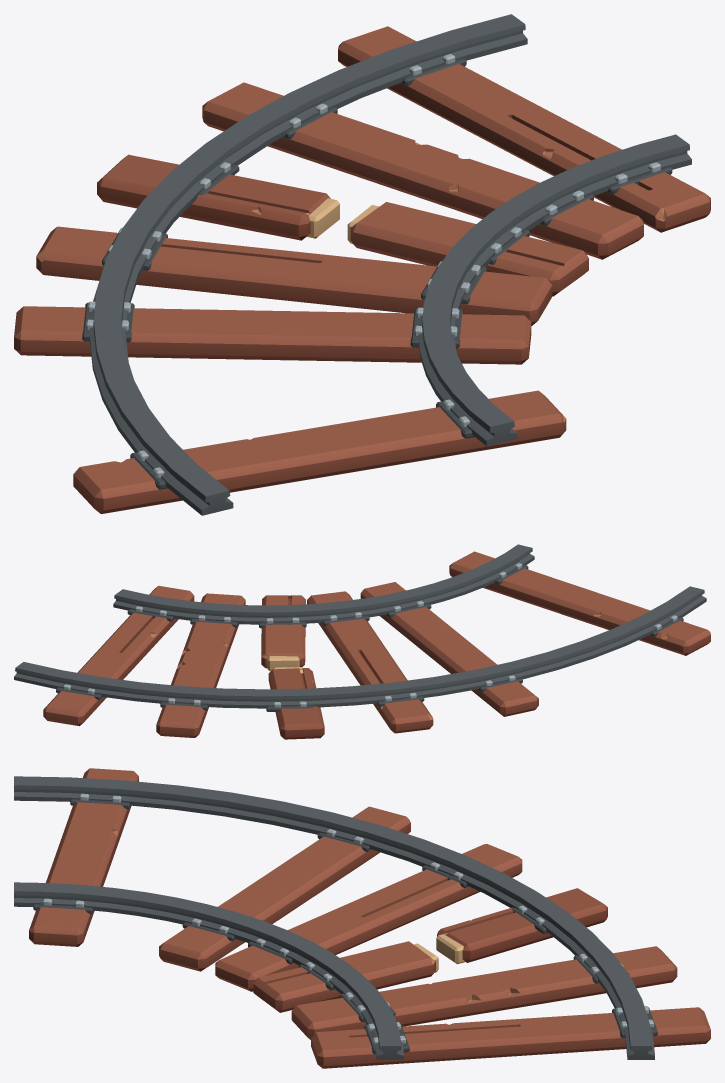
The model's file is rail_track_curve.glb.
The picture shows the model from 3 angles, top to bottom: view 1: azimuth 30°, elevation 25°; view 2: azimuth 150°, elevation 25°; view 3: azimuth 270°, elevation 25°; orthographic projection. The views are drawn at different scales.
Visible parts, largest first — view 1: rail_track_curve; view 2: rail_track_curve; view 3: rail_track_curve.
Boxes of the visible parts, bbox=[...] form: rail_track_curve: bbox=[14, 14, 710, 515]; rail_track_curve: bbox=[14, 544, 710, 739]; rail_track_curve: bbox=[14, 768, 710, 1068].
Bounding box in the file's own units: 2.76 × 0.1372 × 2.78.
Materials: 1 (1 with a texture image).
